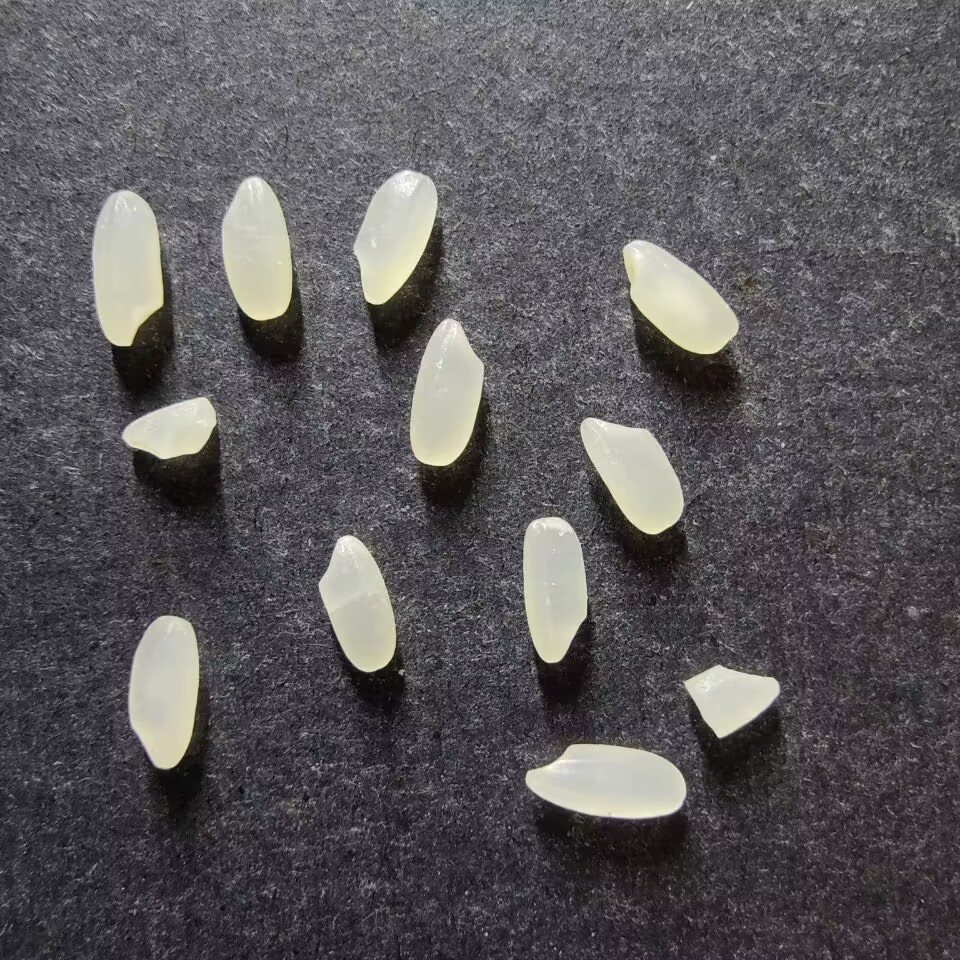broken: (683, 664, 780, 739), (121, 396, 216, 459)
rice: (622, 239, 739, 354), (524, 743, 686, 819), (579, 417, 684, 534), (351, 170, 437, 305), (91, 190, 164, 346), (127, 615, 200, 769), (409, 318, 483, 467), (317, 535, 396, 672), (220, 176, 292, 320), (522, 515, 588, 663)
